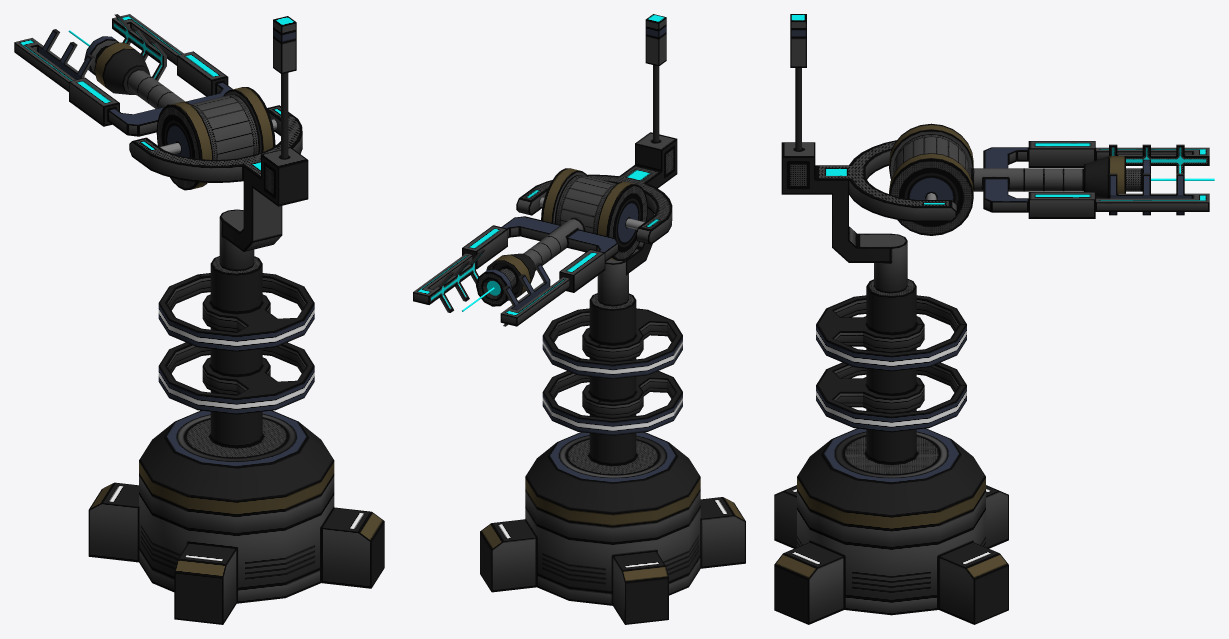
The model's file is arc_tower_002.fbx.
3 renders of one model, left to right at view 1: azimuth 30°, elevation 25°; view 2: azimuth 150°, elevation 25°; view 3: azimuth 270°, elevation 25°, orthographic. The views are drawn at different scales.
Visible parts, largest first — view 1: base, turret_y, turret_x, recoil1; view 2: base, turret_y, turret_x, recoil1; view 3: base, turret_y, turret_x, recoil1.
Part boxes in pixels (x1,y1,x2,y2): base: (88, 256, 384, 624); turret_y: (129, 16, 308, 271); turret_x: (68, 30, 260, 159); recoil1: (14, 14, 183, 91); base: (480, 293, 745, 624); turret_y: (516, 14, 677, 306); turret_x: (462, 175, 618, 311); recoil1: (413, 249, 569, 326); base: (774, 279, 1008, 624); turret_y: (781, 14, 973, 293); turret_x: (893, 134, 1214, 218); recoil1: (1095, 144, 1209, 215).
Bounding box in the file's own units: 140 × 367 × 263.
